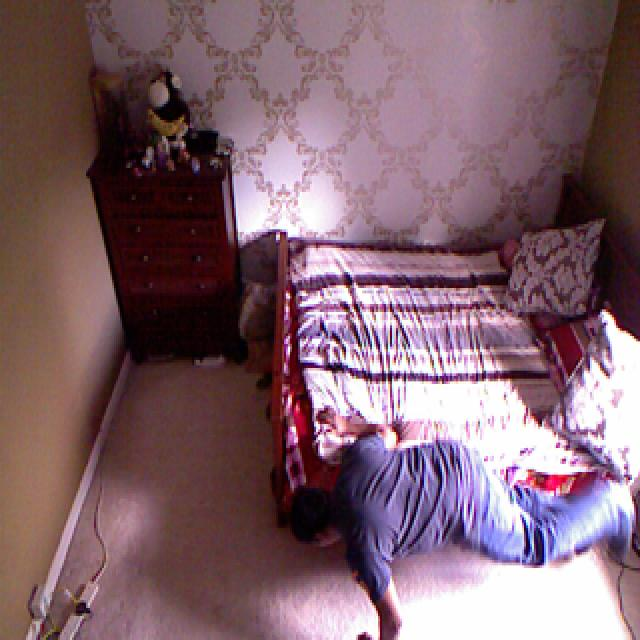lying: (278, 406, 640, 598)
